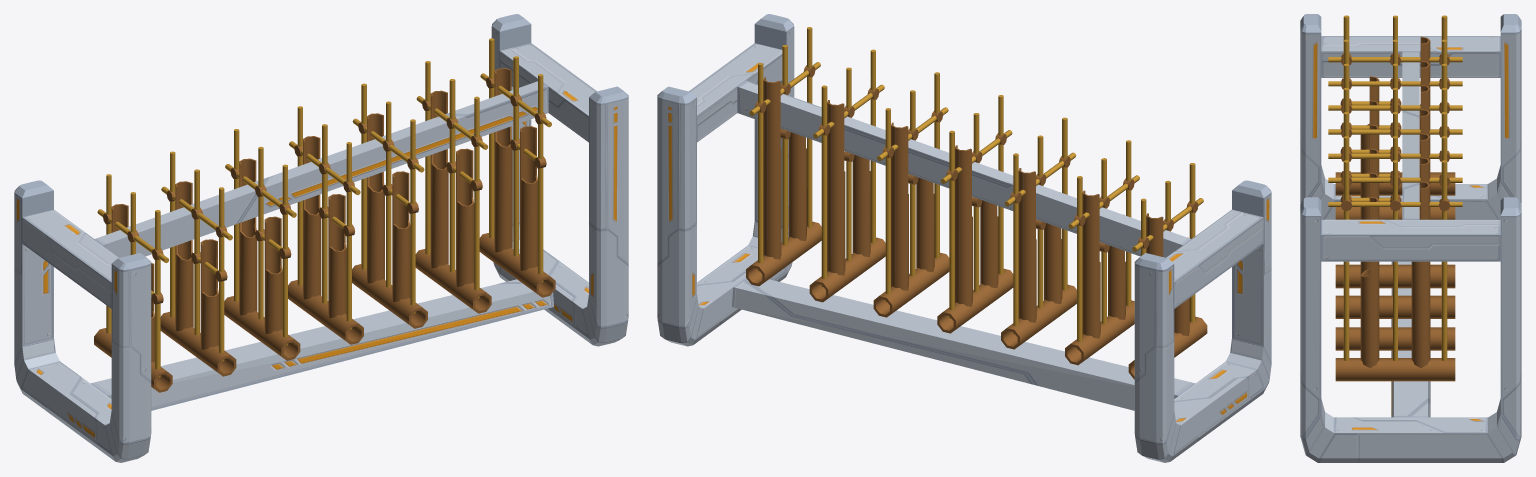
File: Angklung.dae
3 views of the same model, side by side, from view 1: azimuth 30°, elevation 25°; view 2: azimuth 150°, elevation 25°; view 3: azimuth 270°, elevation 25° (orthographic).
Parts seen in each view (by area): view 1: Cube, Cylinder.001; view 2: Cube, Cylinder.001; view 3: Cube, Cylinder.001.
Part boxes in pixels (x1,y1,x2,y2): Cube: (14, 14, 628, 462); Cylinder.001: (94, 38, 555, 392); Cube: (657, 14, 1271, 462); Cylinder.001: (746, 27, 1207, 379); Cube: (1300, 14, 1521, 462); Cylinder.001: (1328, 15, 1462, 381).
Bounding box in the file's own units: 3.2 × 1.2 × 1.63.
